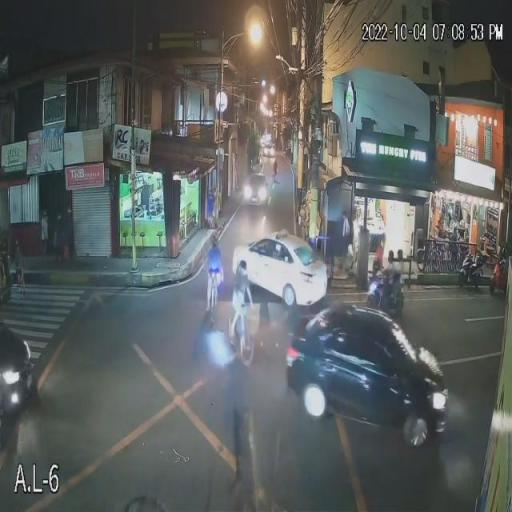helmet: (388, 250, 394, 262), (397, 249, 403, 259)
motorcycle: (367, 282, 404, 314)
rider: (383, 264, 395, 311), (394, 262, 404, 298)
